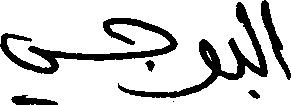X: (103, 13, 175, 104), (0, 28, 58, 104), (177, 34, 217, 101), (244, 0, 265, 103), (267, 0, 290, 84), (229, 0, 242, 84)
